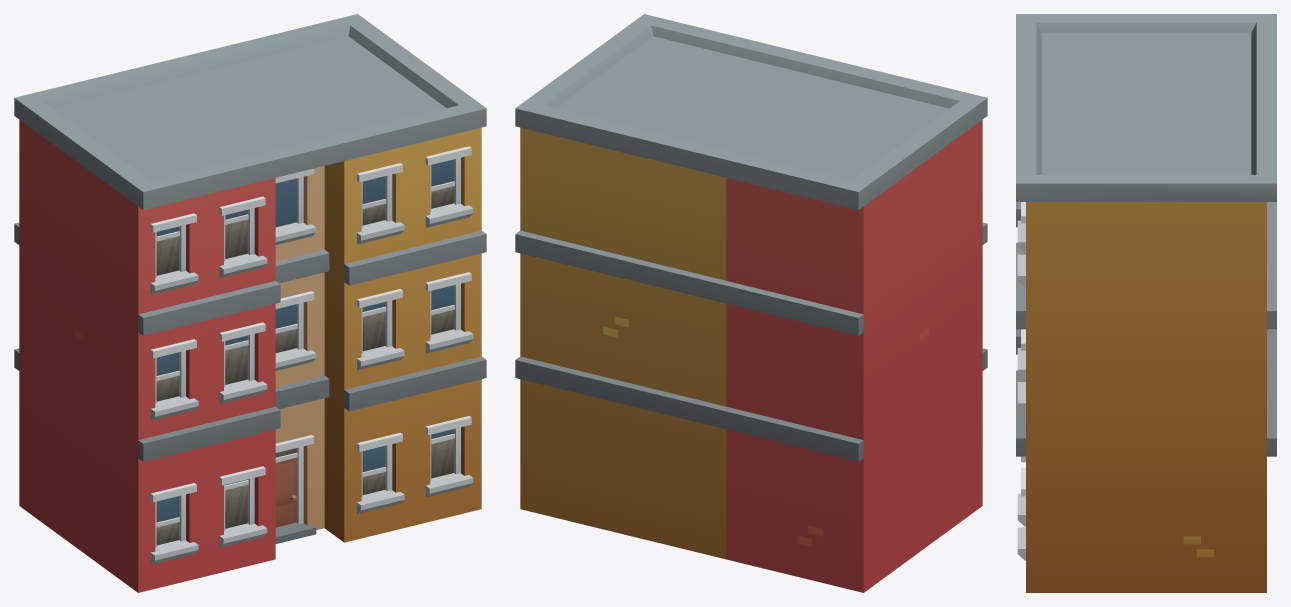
File: building_F_withoutBase.glb
3 renders of one model, left to right at view 1: azimuth 30°, elevation 25°; view 2: azimuth 150°, elevation 25°; view 3: azimuth 270°, elevation 25°, orthographic.
Visible parts, largest first — view 1: building_F_withoutBase; view 2: building_F_withoutBase; view 3: building_F_withoutBase.
Boxes of the visible parts, x1,y1,x2,y2 form: building_F_withoutBase: (14, 14, 486, 592); building_F_withoutBase: (515, 14, 987, 592); building_F_withoutBase: (1016, 14, 1276, 592).
Size of the model in its own units: 2.01 by 2.25 by 1.3.
1 material, 1 textured.
